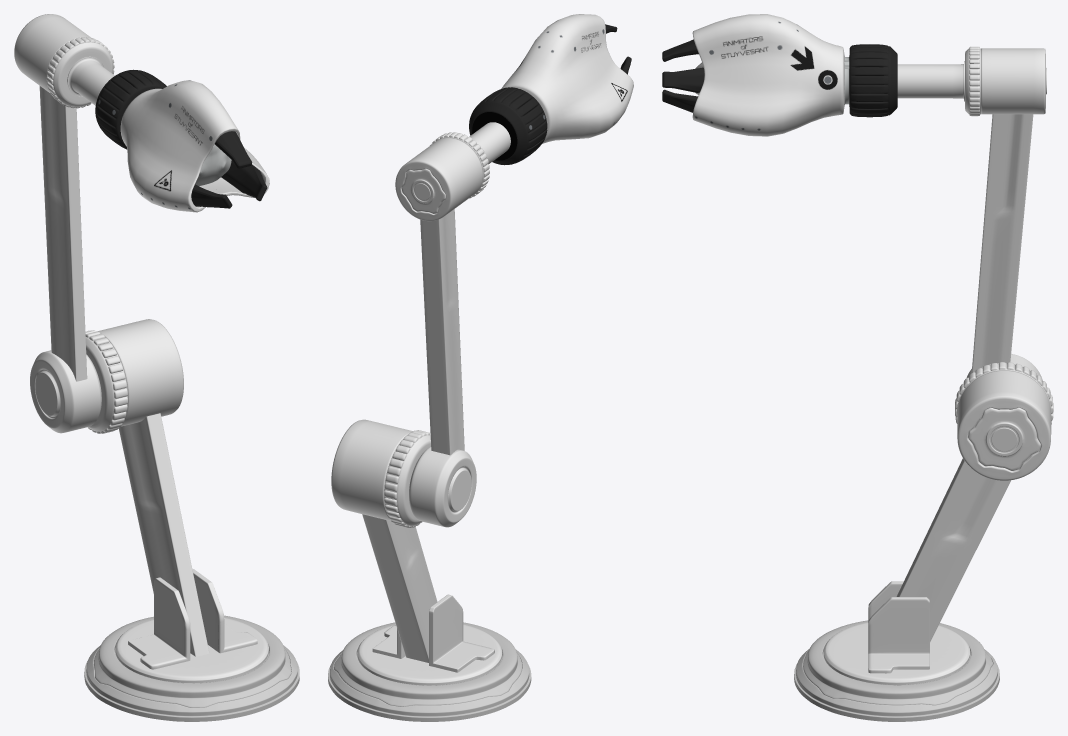
The model's file is arm_3.fbx.
3 renders of one model, left to right at view 1: azimuth 30°, elevation 25°; view 2: azimuth 150°, elevation 25°; view 3: azimuth 270°, elevation 25°, orthographic. The views are drawn at different scales.
Parts seen in each view (by area): view 1: Plane.003, Plane.002, Plane.004, Plane.001, Plane; view 2: Plane.003, Plane.002, Plane.004, Plane.001, Plane; view 3: Plane.002, Plane.004, Plane.003, Plane.001, Plane.
Part boxes in pixels (x1,y1,x2,y2): Plane.003: [14, 14, 114, 433]; Plane.002: [66, 56, 269, 212]; Plane.004: [85, 319, 209, 656]; Plane.001: [84, 615, 299, 721]; Plane: [115, 569, 268, 683]; Plane.003: [395, 132, 489, 527]; Plane.002: [469, 14, 633, 165]; Plane.004: [331, 419, 437, 662]; Plane.001: [328, 622, 531, 721]; Plane: [357, 594, 502, 685]; Plane.002: [662, 14, 963, 136]; Plane.004: [896, 362, 1053, 641]; Plane.003: [964, 46, 1046, 380]; Plane.001: [794, 620, 999, 721]; Plane: [823, 581, 970, 684].
Bounding box in the file's own units: 426 × 1231 × 693.
